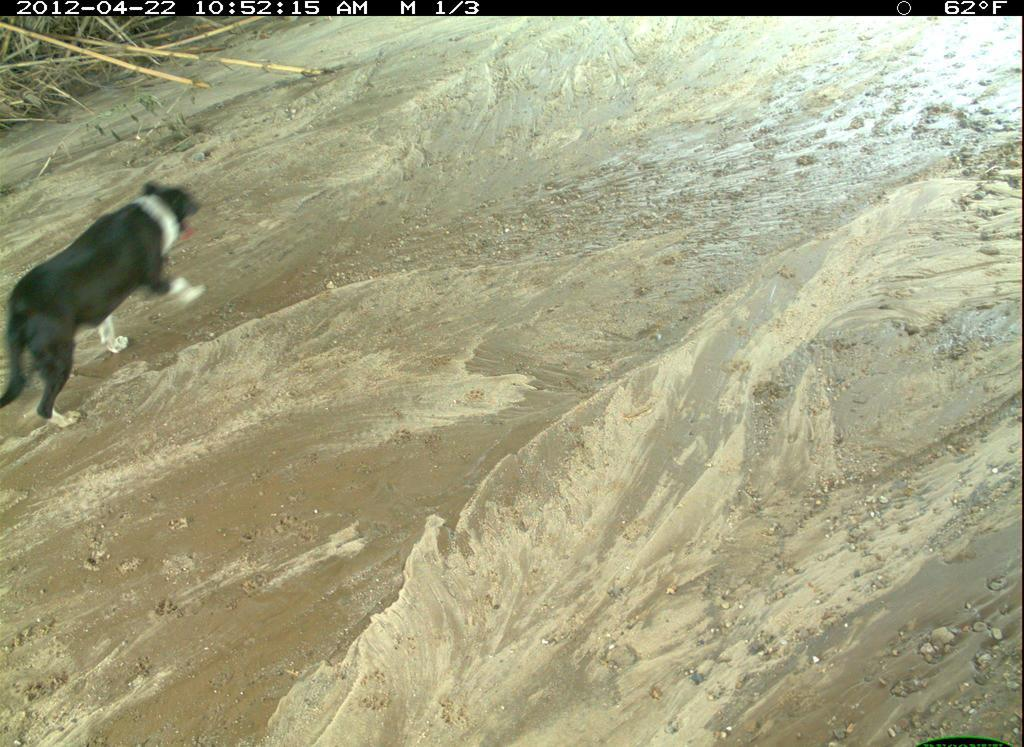dog: (1, 356, 418, 747)
